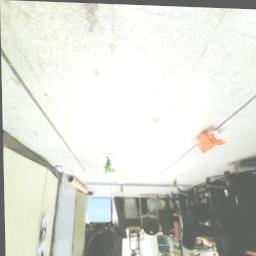herb: (104, 158, 116, 175), (173, 176, 179, 191), (120, 183, 124, 193)
wild: (197, 132, 227, 156)
